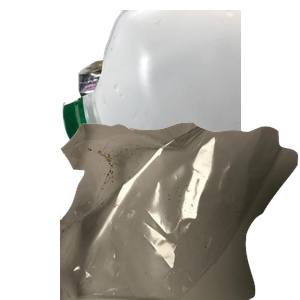glass: (68, 120, 255, 300)
metal: (75, 56, 198, 185)
plastic: (60, 10, 300, 190)
trash: (60, 120, 300, 300)
